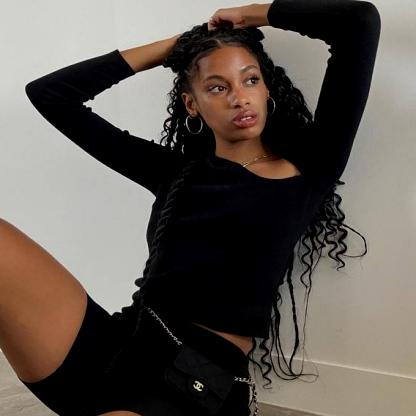dress: (16, 0, 412, 340)
jacket: (23, 294, 254, 416)
